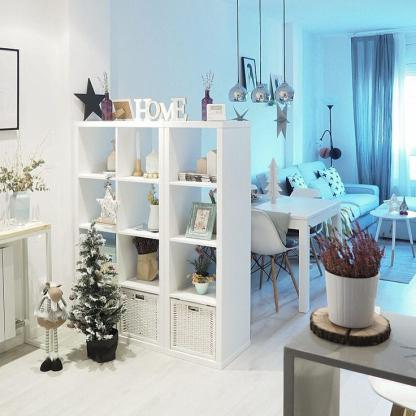lamp: (73, 119, 253, 373)
